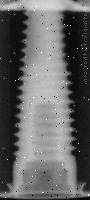Keystone Dental: (10, 10, 78, 193)
